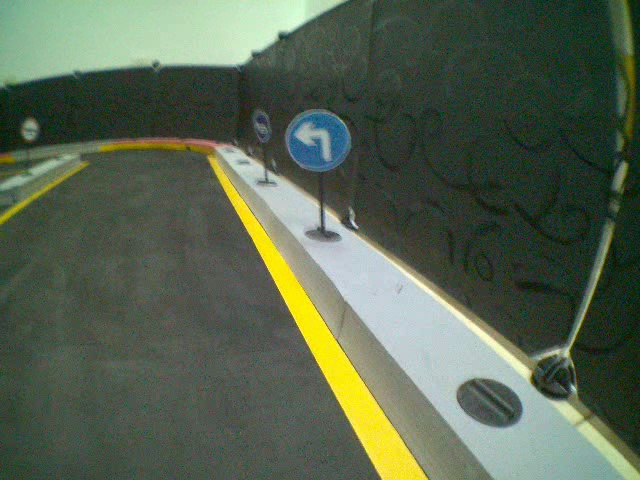Check: (20, 117, 39, 143)
horn: (252, 109, 273, 145)
turn: (285, 109, 352, 172)
